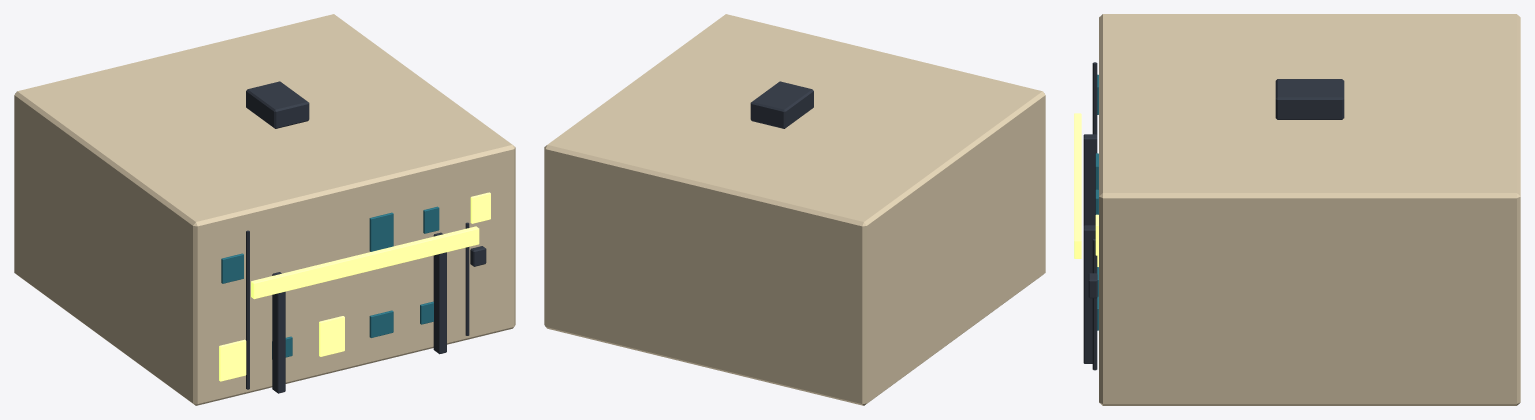
Rendered from building_015_seed11.glb.
3 renders of one model, left to right at view 1: azimuth 30°, elevation 25°; view 2: azimuth 150°, elevation 25°; view 3: azimuth 270°, elevation 25°, orthographic. The views are drawn at different scales.
Parts seen in each view (by area): view 1: building_015_seed11; view 2: building_015_seed11; view 3: building_015_seed11.
Part boxes in pixels (x1,y1,x2,y2): building_015_seed11: [14, 14, 515, 405]; building_015_seed11: [544, 14, 1045, 405]; building_015_seed11: [1074, 14, 1520, 405].
Size of the model in its own units: 8.7 by 5.24 by 9.01.
